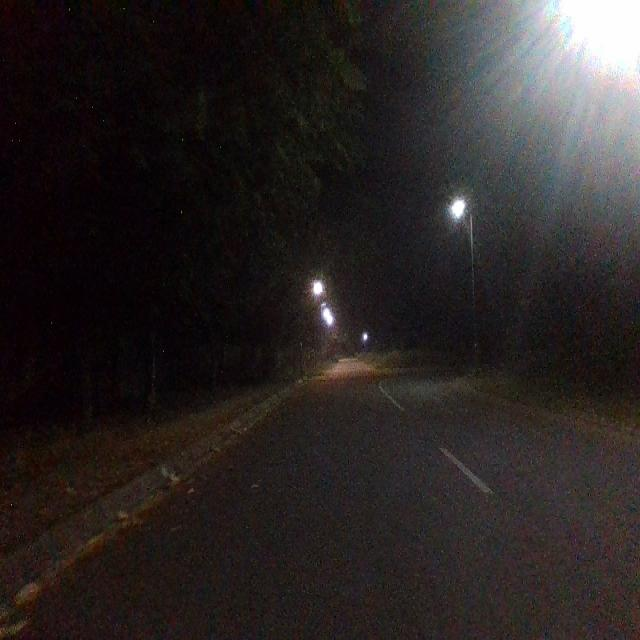lane: (1, 370, 619, 640)
